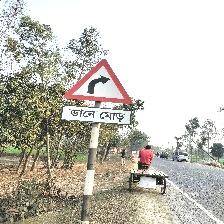Right-turn: (61, 59, 135, 126)
